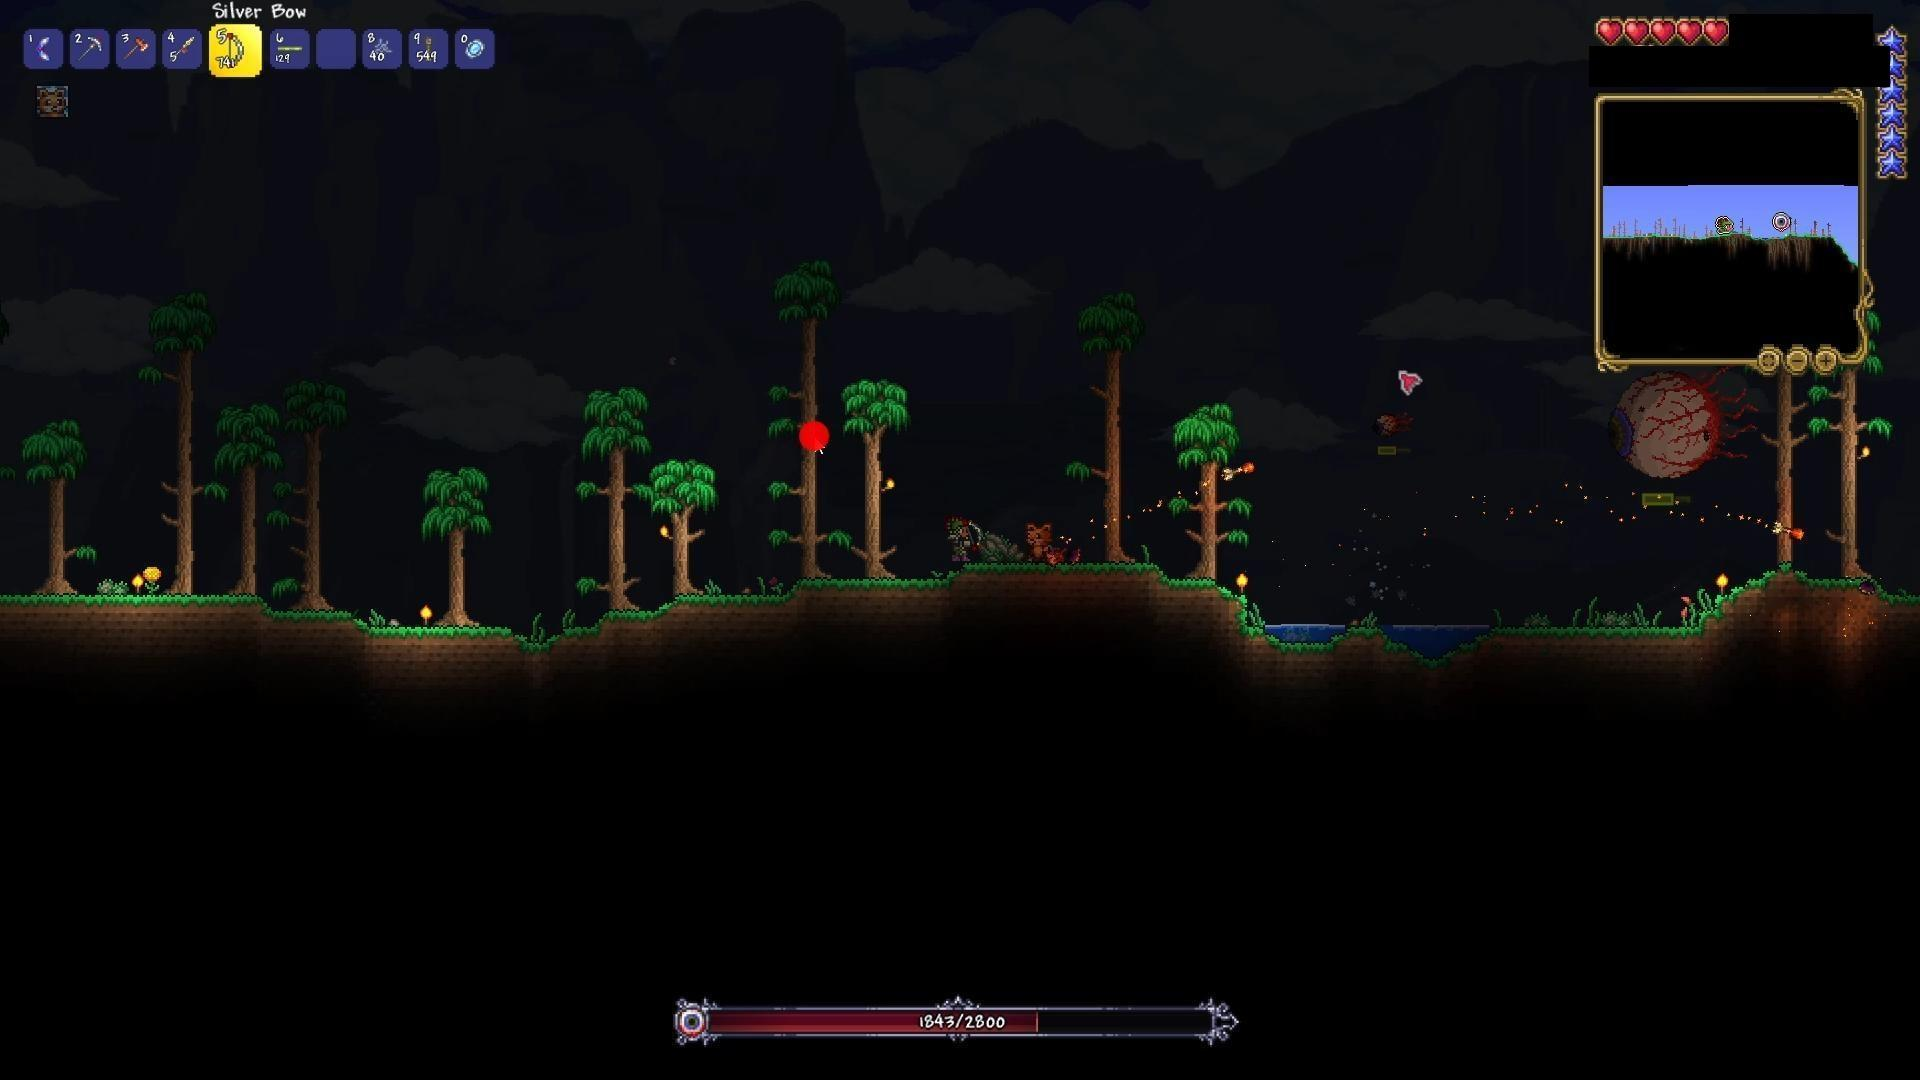dirt: (1143, 559, 1279, 644), (604, 580, 783, 640), (0, 588, 260, 629), (1276, 622, 1524, 662), (1692, 568, 1815, 629), (348, 618, 518, 661), (508, 608, 613, 673), (790, 571, 963, 607), (1510, 620, 1700, 645), (247, 605, 345, 636)
heart: (1702, 17, 1733, 51), (1593, 16, 1626, 46), (1676, 15, 1704, 50), (1650, 16, 1676, 49), (1625, 15, 1651, 44)
liquid: (1356, 608, 1491, 641), (1261, 613, 1342, 637)
tree: (765, 252, 847, 574), (1068, 281, 1142, 556), (144, 294, 208, 596), (840, 364, 927, 576), (560, 393, 640, 601), (32, 409, 96, 604), (1164, 392, 1228, 589), (215, 400, 277, 600), (422, 456, 488, 626), (654, 448, 727, 592)
